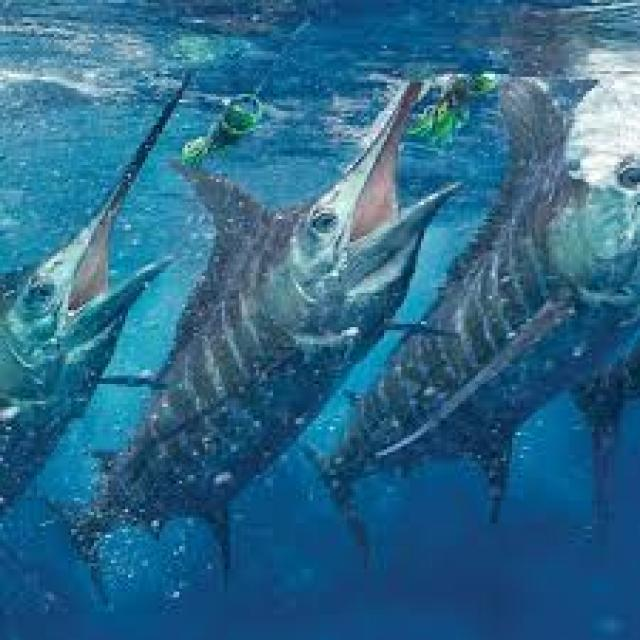Blue Marlin: (46, 77, 467, 606), (293, 71, 640, 569), (3, 71, 190, 529)
